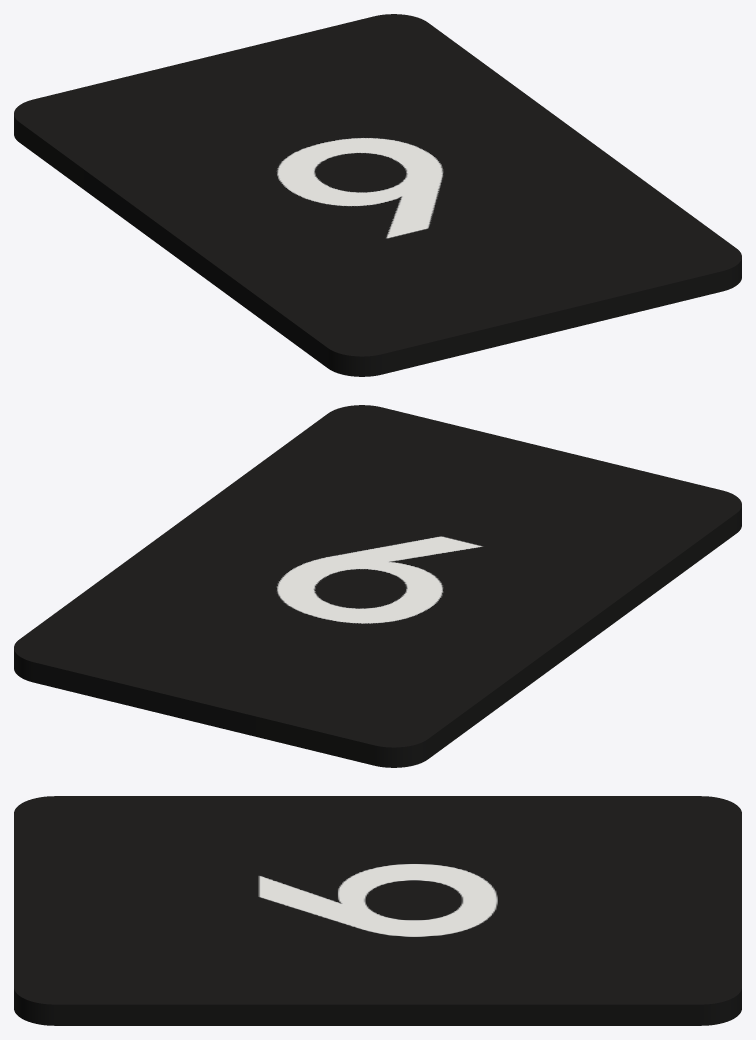
Rendered from black_9.glb.
The picture shows the model from 3 angles, top to bottom: view 1: azimuth 30°, elevation 25°; view 2: azimuth 150°, elevation 25°; view 3: azimuth 270°, elevation 25°; orthographic projection. The views are drawn at different scales.
Parts seen in each view (by area): view 1: black_9; view 2: black_9; view 3: black_9.
Boxes of the visible parts, x1,y1,x2,y2 form: black_9: (14,14,741,376); black_9: (14,405,741,767); black_9: (14,796,741,1025).
Size of the model in its own units: 0.042 by 0.002 by 0.062.
2 materials, 1 textured.
